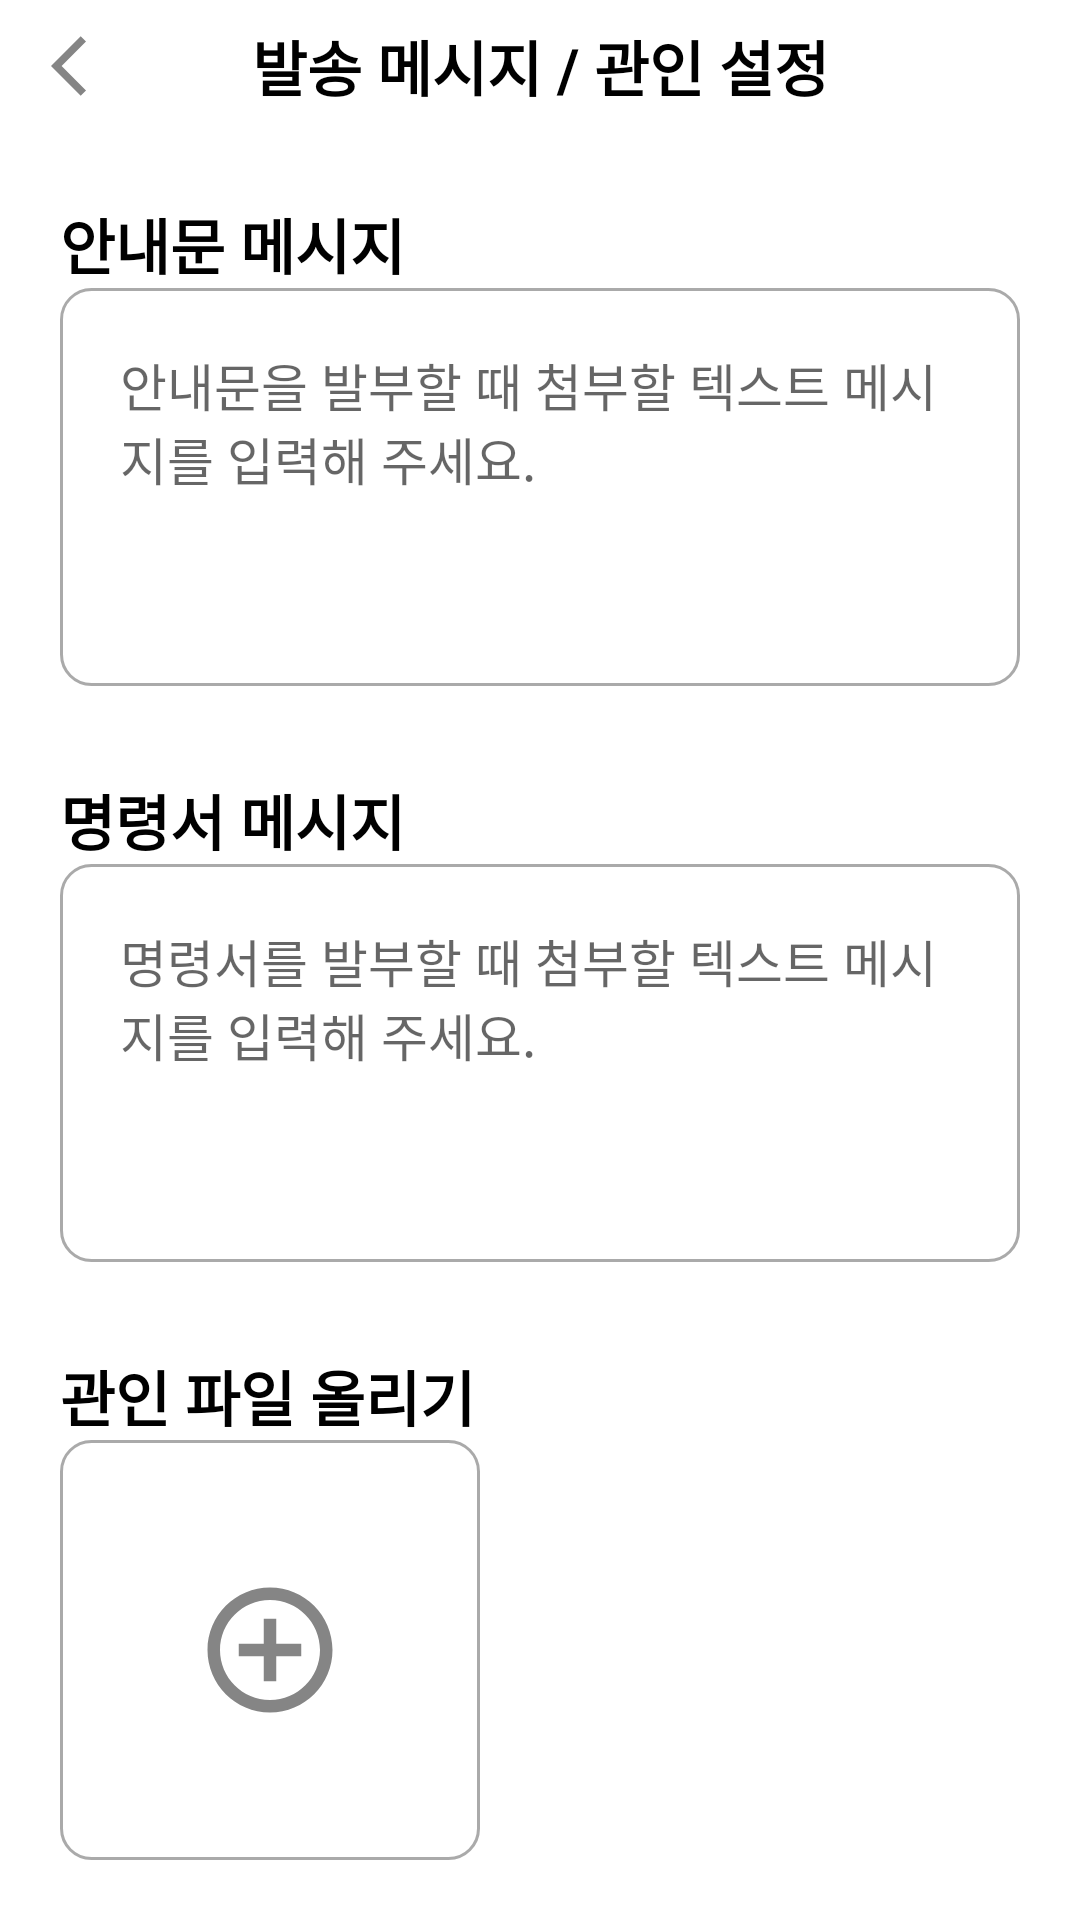

Locate icon controls on the screen. Image size 1080*1920, boxes as (x1, y1, x2, y2).
add circle: (207, 1587, 333, 1713)
